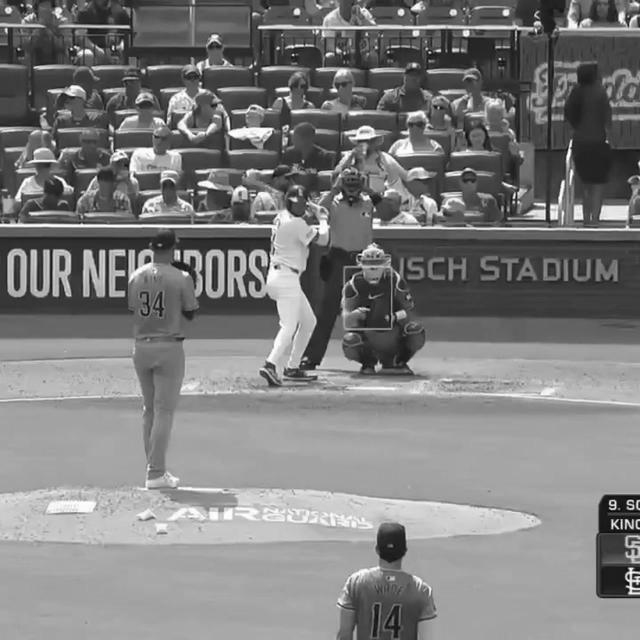base: (344, 384, 401, 390)
baseball_glove: (371, 299, 394, 326)
bat: (238, 176, 284, 198)
shoe: (142, 472, 186, 490), (259, 362, 286, 390), (284, 364, 320, 385)
